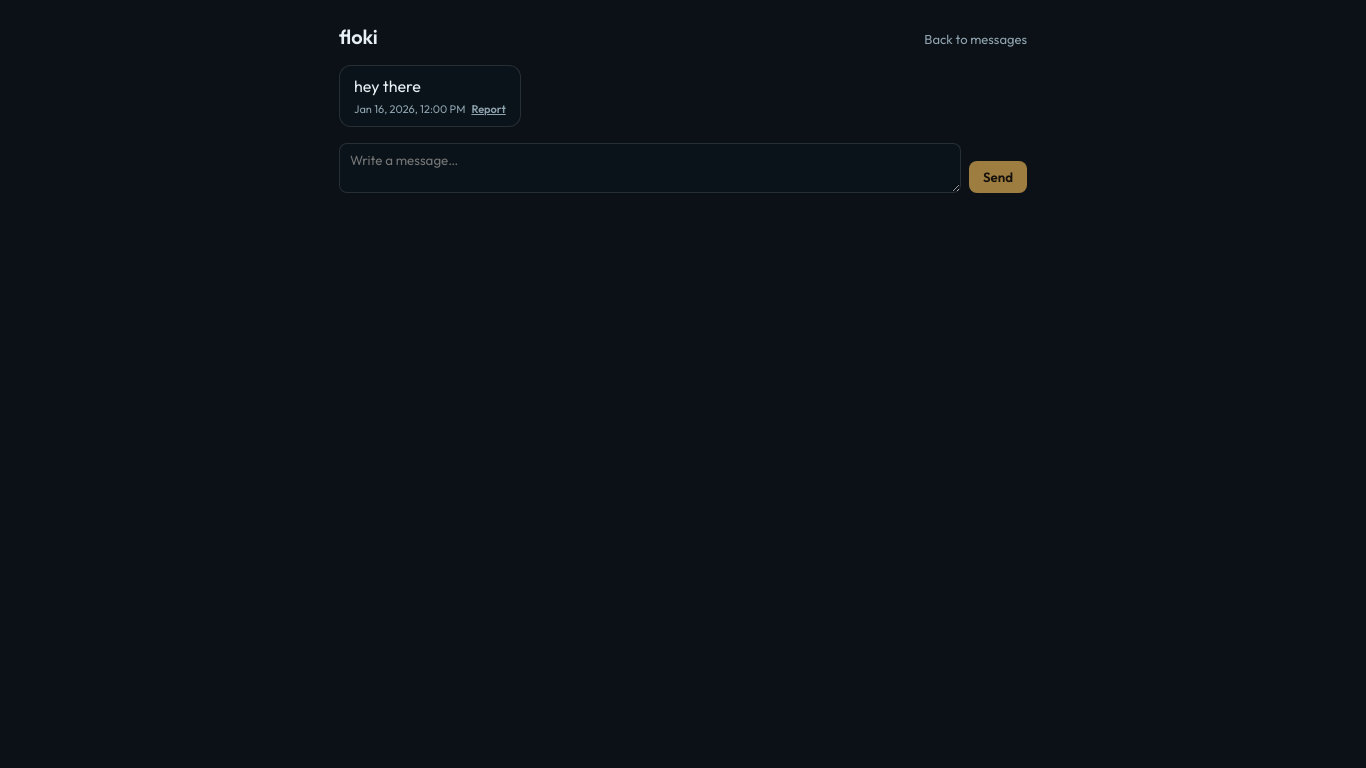
Scenario: ConversationView › lets the recipient report a message, then hides the report link for it
Click the button with class "report-link": [489, 109] box left=471, top=102, right=506, bottom=116
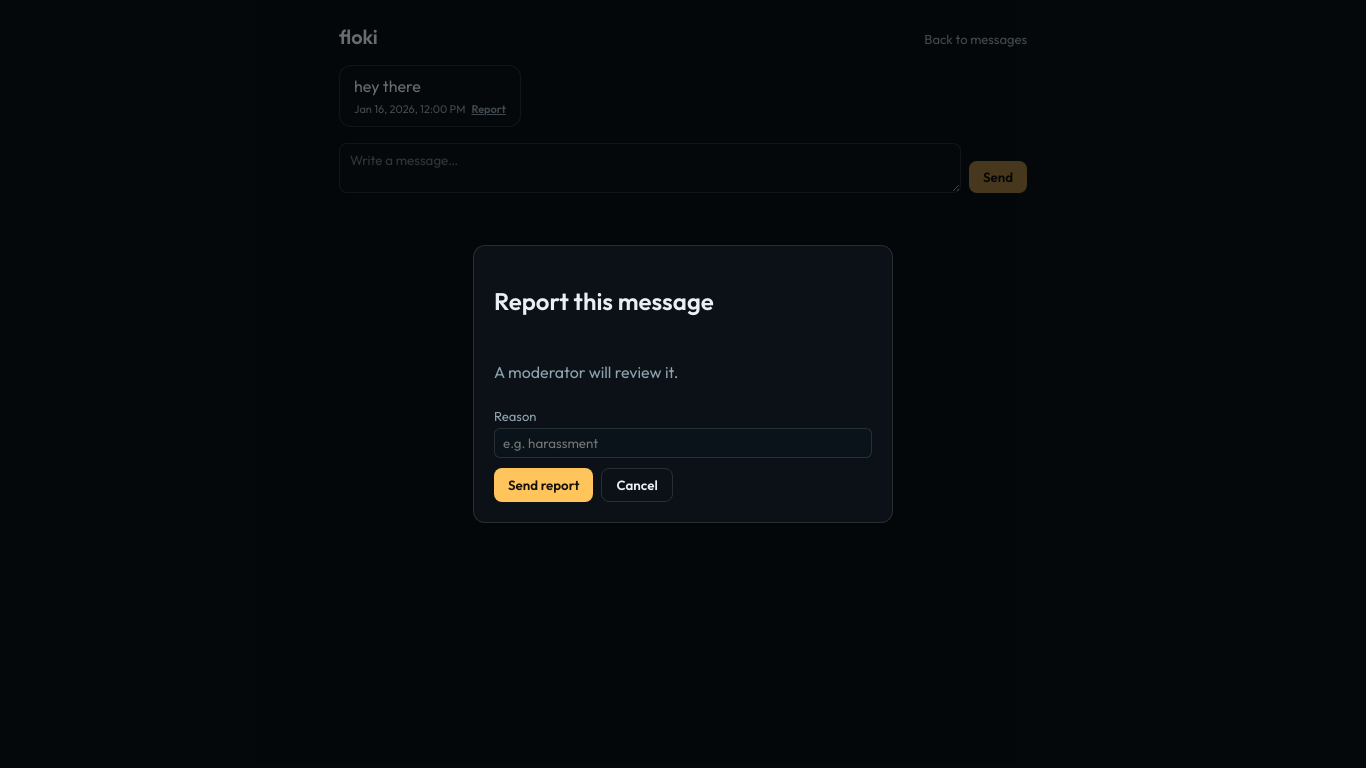
In the field labelled "Reason": [683, 443] box left=494, top=428, right=872, bottom=458, type "harassment"
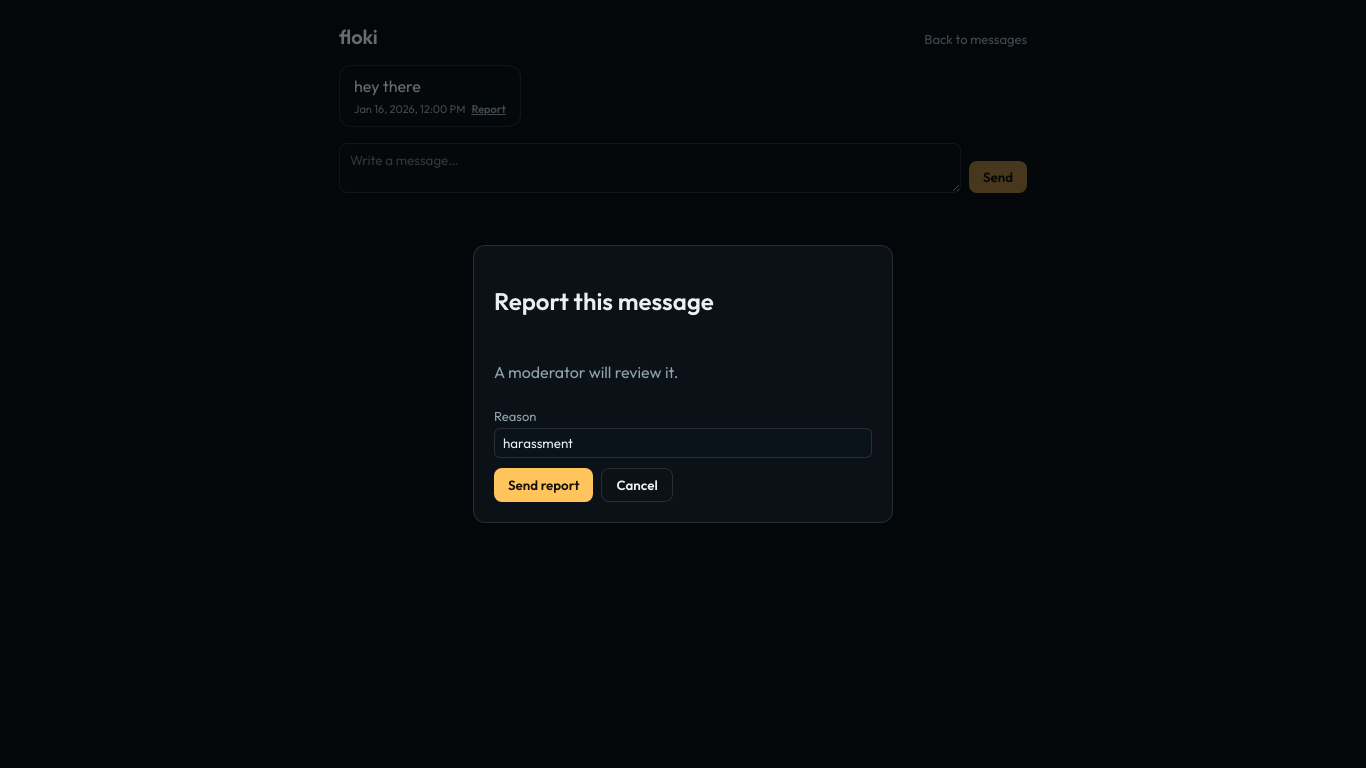
Click the button "Send report": [544, 485] box left=494, top=468, right=594, bottom=502
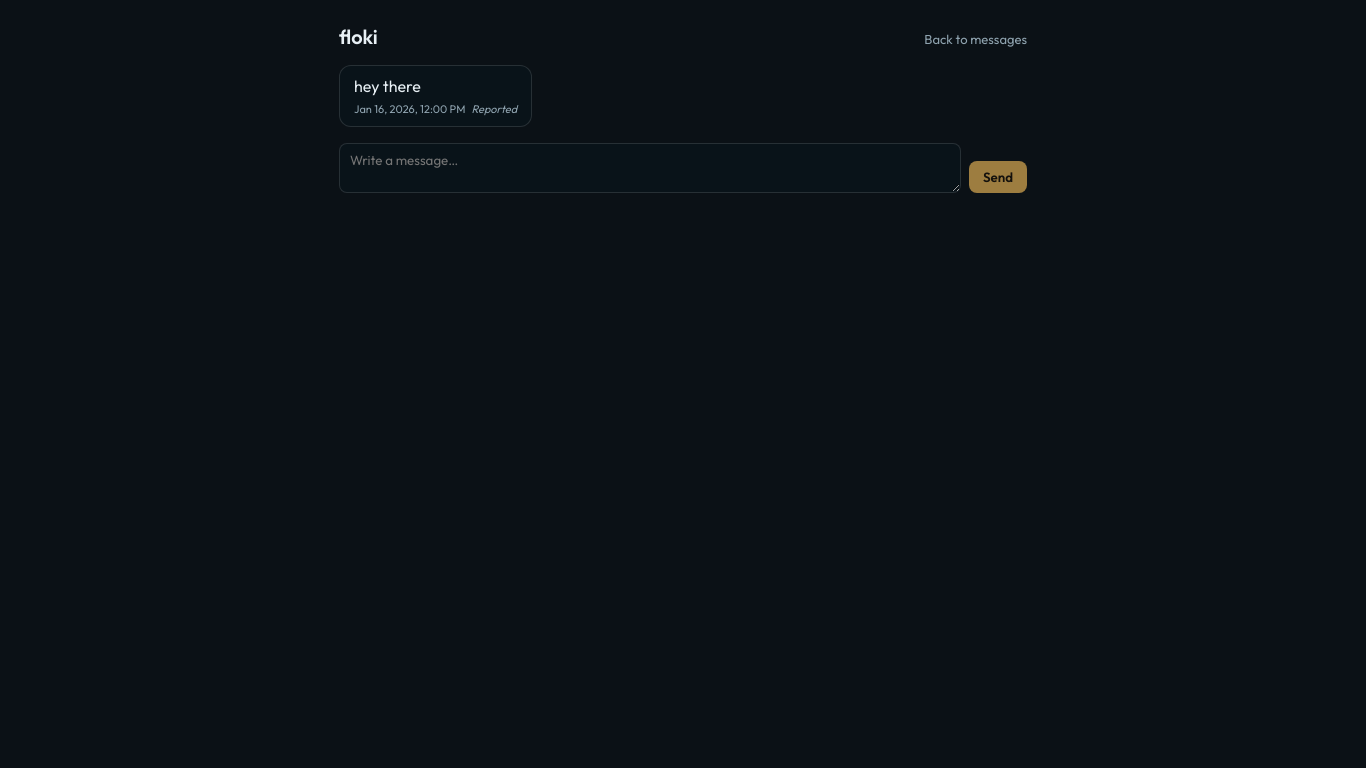
Now the text "Reported" is shown, box left=471, top=102, right=517, bottom=116
